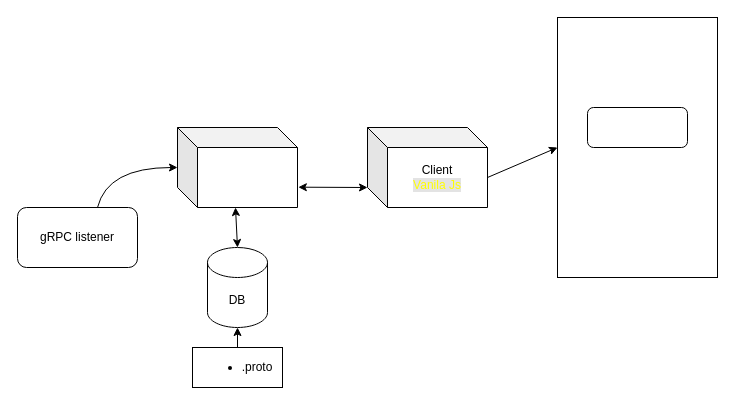
This 735x405 diagram has some shape labels left out. The centre of each missing label's shape, as x and y in pixels:
"code example" goes at [637,127].
"Server Express" goes at [237,167].
